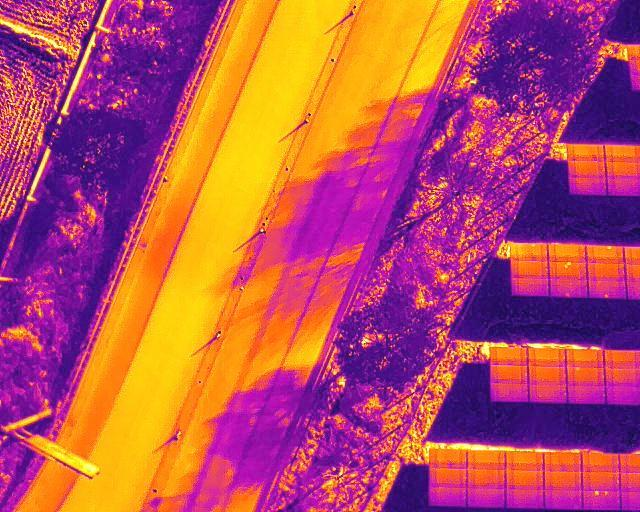Cell: (510, 243, 548, 261), (588, 281, 626, 298), (568, 367, 605, 384), (587, 246, 624, 263), (549, 281, 587, 297)
Cell-Multi: (582, 491, 620, 510), (549, 262, 587, 280)
No-Anomaly: (467, 451, 505, 470), (581, 453, 619, 472), (490, 383, 528, 402), (506, 470, 543, 489), (510, 261, 549, 279), (544, 490, 582, 508), (467, 470, 505, 488), (582, 472, 620, 490), (528, 349, 566, 367), (529, 384, 567, 402), (547, 244, 587, 261), (544, 454, 581, 472), (490, 348, 527, 366), (604, 386, 639, 405), (607, 176, 640, 196), (430, 487, 466, 505), (467, 489, 505, 506), (506, 453, 544, 470), (568, 178, 606, 195), (490, 366, 528, 383), (511, 279, 549, 296), (605, 144, 640, 162), (604, 350, 639, 368), (430, 451, 467, 468), (430, 468, 467, 485), (506, 490, 543, 507), (544, 473, 581, 490), (568, 385, 605, 402), (528, 367, 567, 383), (604, 369, 639, 386), (588, 264, 625, 280), (568, 144, 605, 160), (567, 350, 604, 366), (568, 162, 606, 177), (607, 161, 640, 175)
